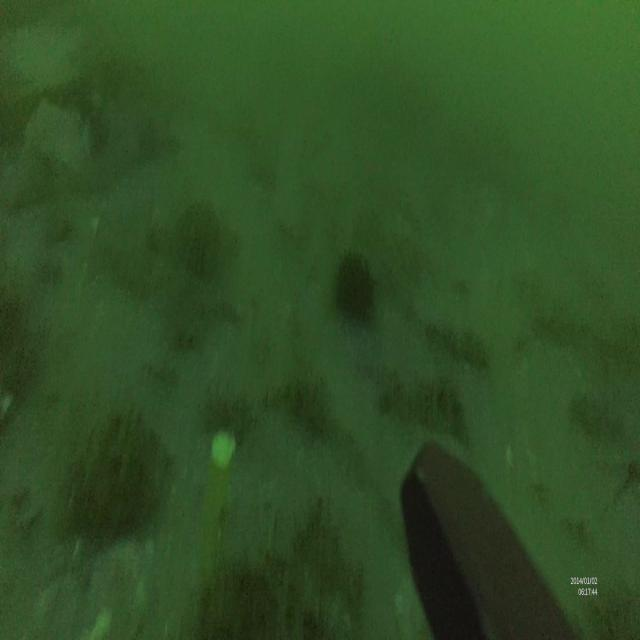echinus: (333, 253, 377, 322)
